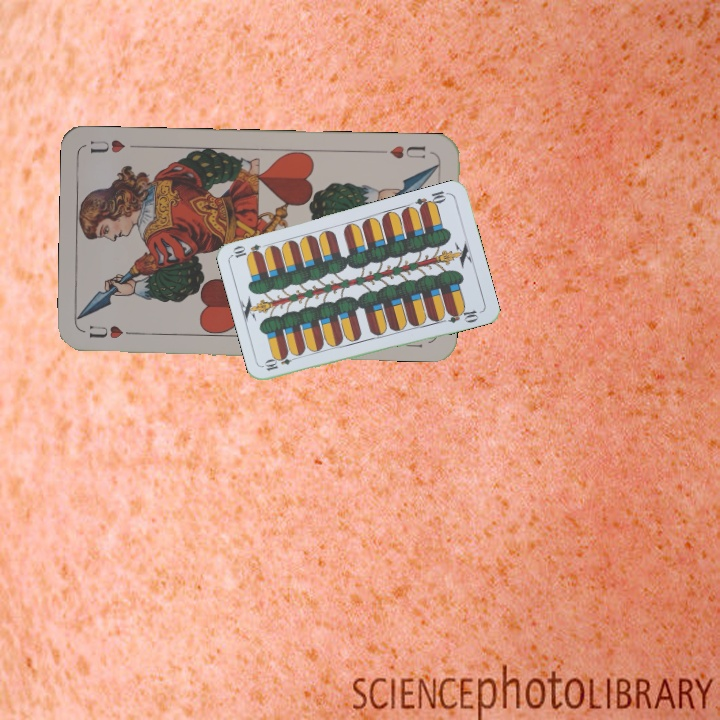E10: (412, 187, 451, 213), (261, 351, 301, 373)
HU: (85, 321, 141, 341), (385, 141, 428, 162)
